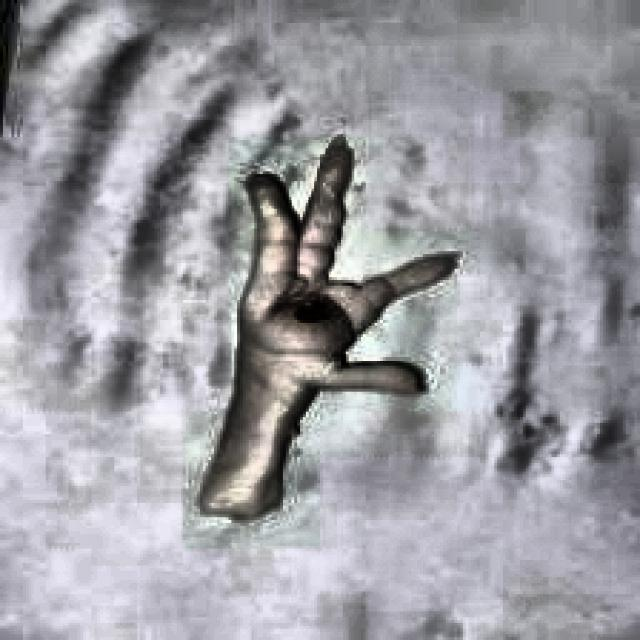Bumble foot: (191, 131, 460, 523)
